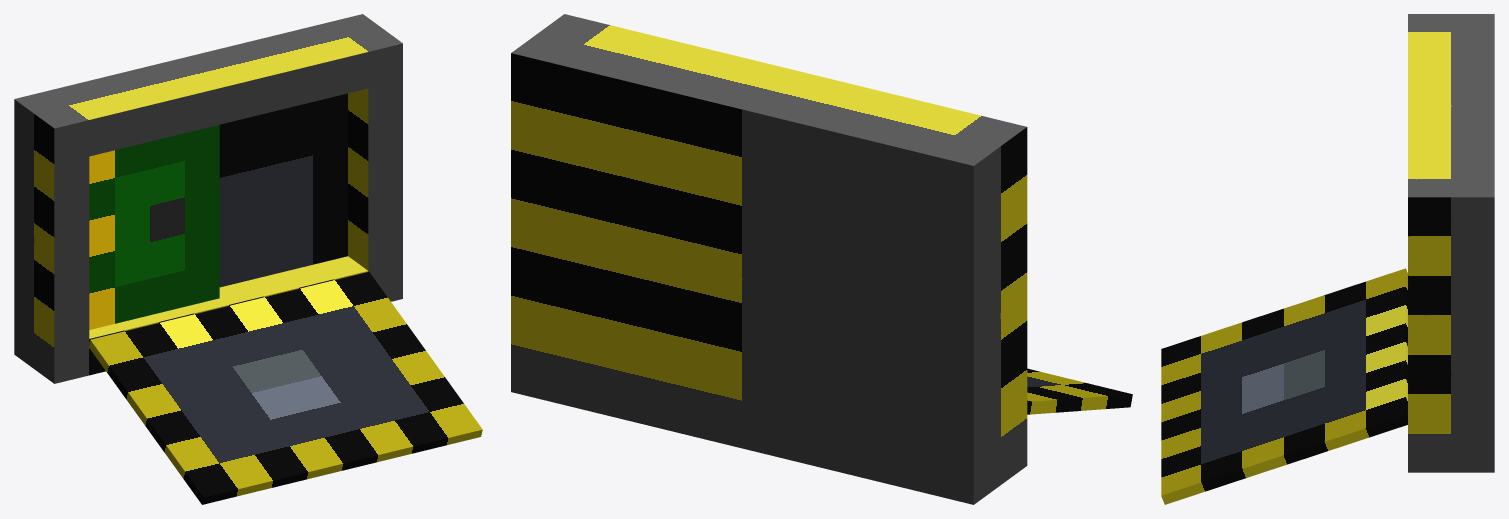
Rendered from door_button_warning_open_board.glb.
3 views of the same model, side by side, from view 1: azimuth 30°, elevation 25°; view 2: azimuth 150°, elevation 25°; view 3: azimuth 270°, elevation 25° (orthographic). The views are drawn at different scales.
Visible parts, largest first — view 1: Continuous_Housing, Service_Cover, Board_Module; view 2: Continuous_Housing, Service_Cover; view 3: Continuous_Housing, Service_Cover.
Boxes of the visible parts, <box> form: Continuous_Housing: <box>14,14,402,383</box>; Service_Cover: <box>89,272,482,504</box>; Board_Module: <box>89,125,219,329</box>; Continuous_Housing: <box>511,14,1027,504</box>; Service_Cover: <box>1027,368,1132,414</box>; Continuous_Housing: <box>1408,14,1494,472</box>; Service_Cover: <box>1161,268,1407,504</box>.
Size of the model in its own units: 0.2812 by 0.2331 by 0.2162.
Materials: 1 (1 with a texture image).
